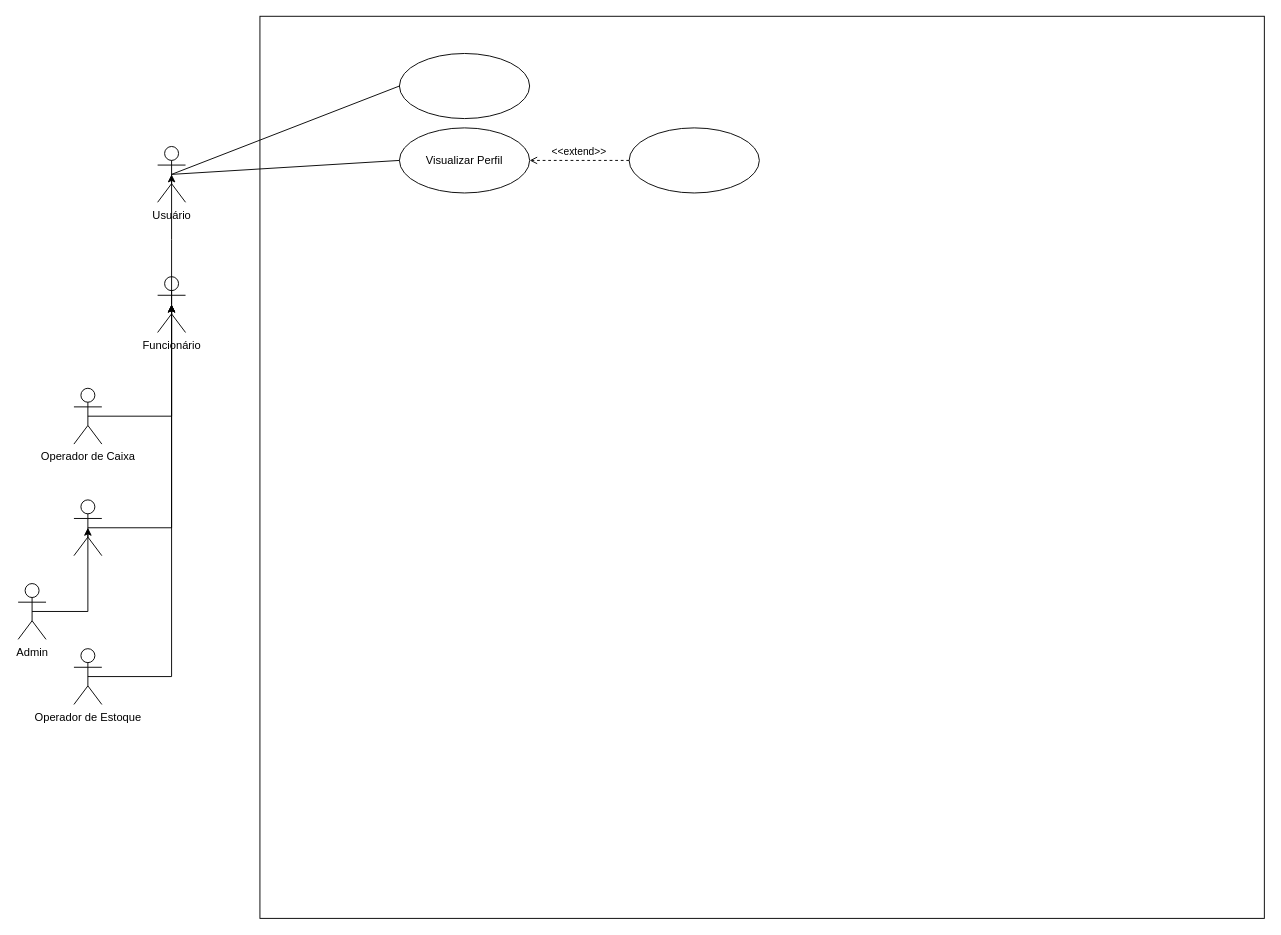
Some shapes in this 1281 by 935 pixel diagram are drawn without their labels. The shapes that lost their labels are listed below. From the top down, each one's centre as x and y in pixels, then its label:
At [464,86]: "Log in".
At [693,160]: "Alterar Dados".
At [87,527]: "Gerente".
